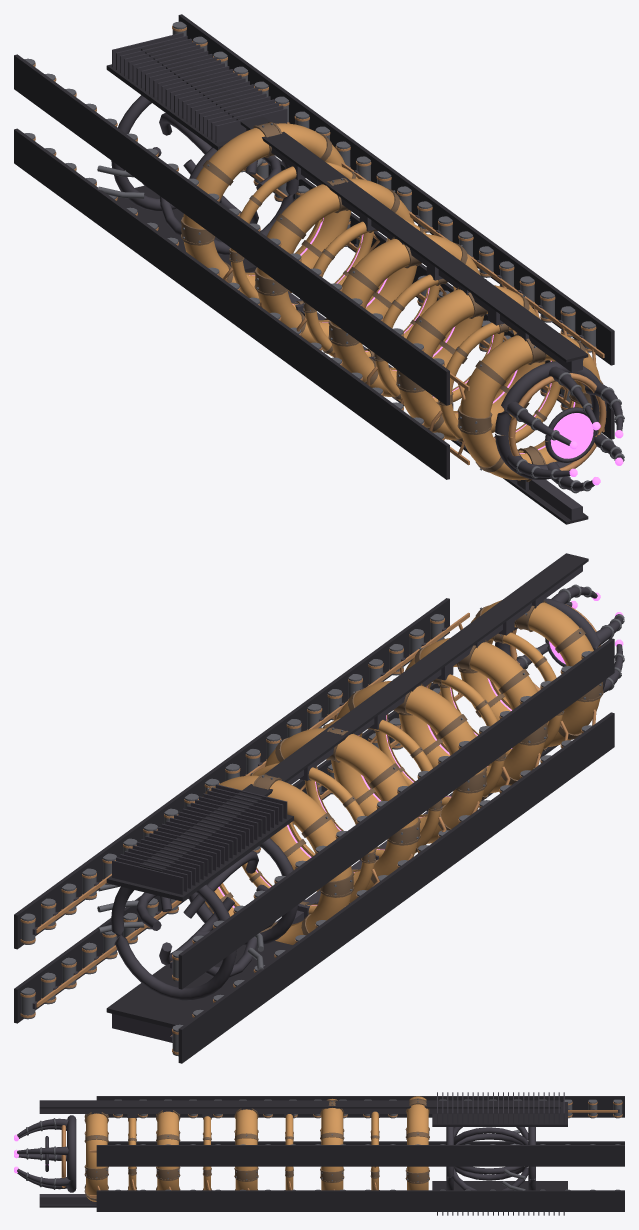
File: dread_lance.glb
3 renders of one model, top to bottom at view 1: azimuth 30°, elevation 25°; view 2: azimuth 150°, elevation 25°; view 3: azimuth 270°, elevation 25°, orthographic. The views are drawn at different scales.
Visible parts, largest first — view 1: lance; view 2: lance; view 3: lance.
Boxes of the visible parts, x1,y1,x2,y2 form: lance: [14, 14, 624, 524]; lance: [14, 553, 624, 1063]; lance: [14, 1092, 624, 1215].
Size of the model in its own units: 33.31 by 33.31 by 171.
